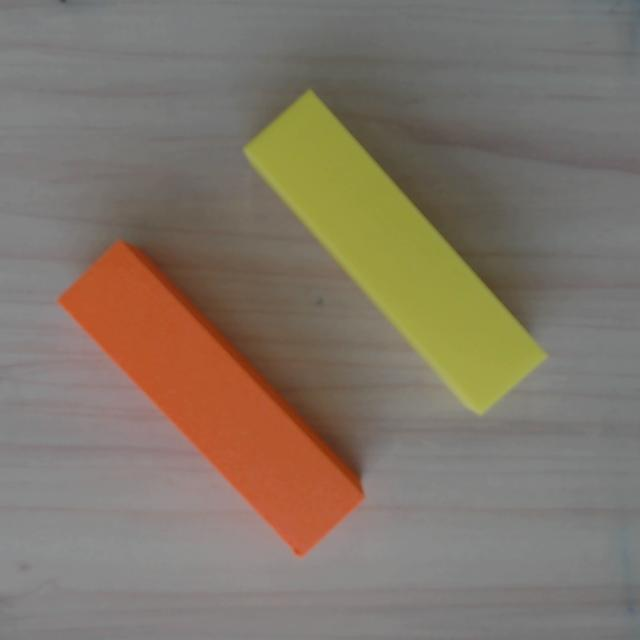Balok-Jingga-1002525: (54, 234, 372, 560)
Balok-Kuning-1002525: (238, 89, 549, 419)
